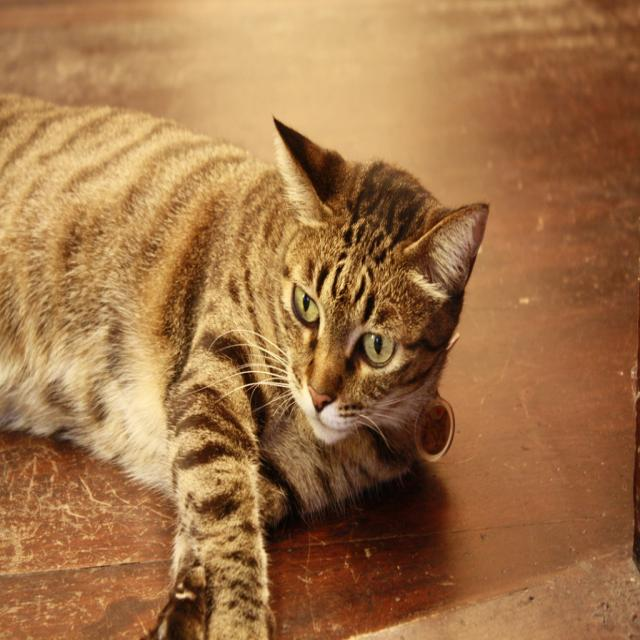Cat: (0, 91, 492, 639)
